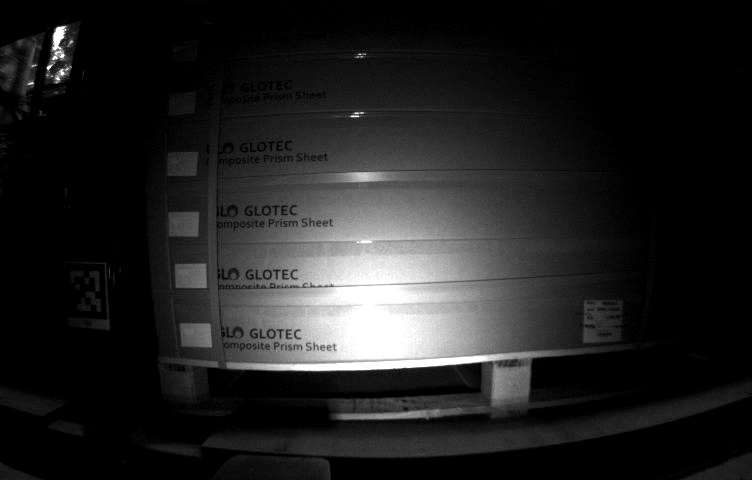True Barcode: (581, 296, 624, 345)
